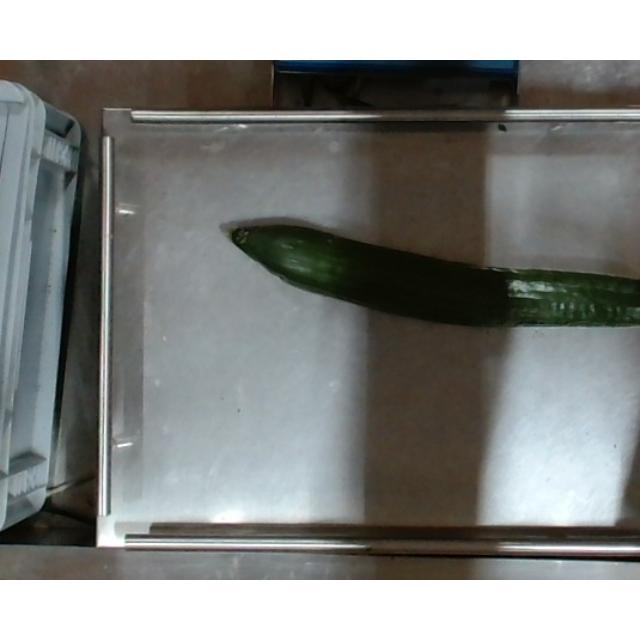cucumber: (216, 218, 640, 332)
